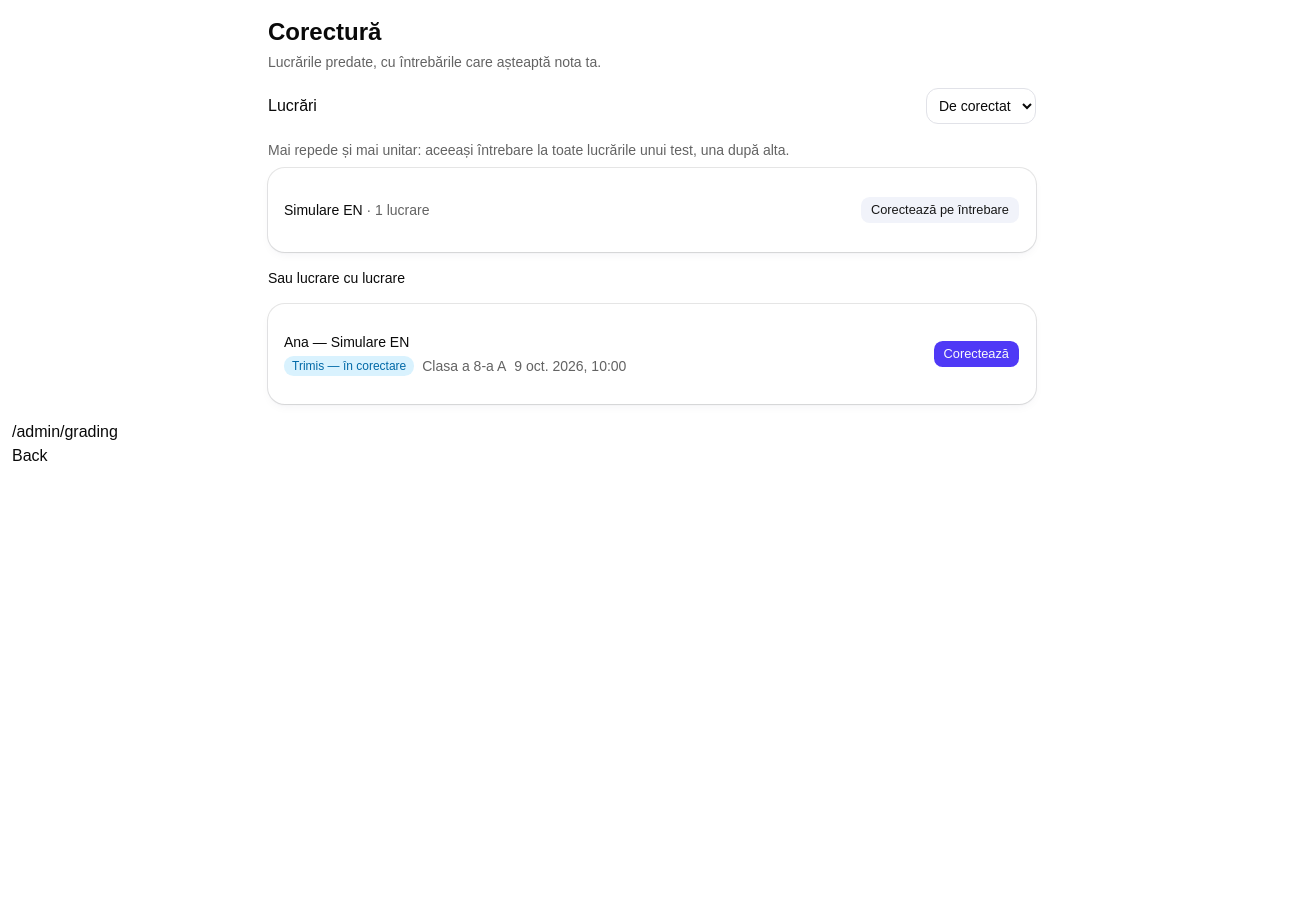
it: AdminGradingPage › keeps a failed save on screen and retries it
The width and height of the screenshot is (1292, 900).
Click the button with test id "attempt-open" at point(976, 354), box [932,340,1020,368]
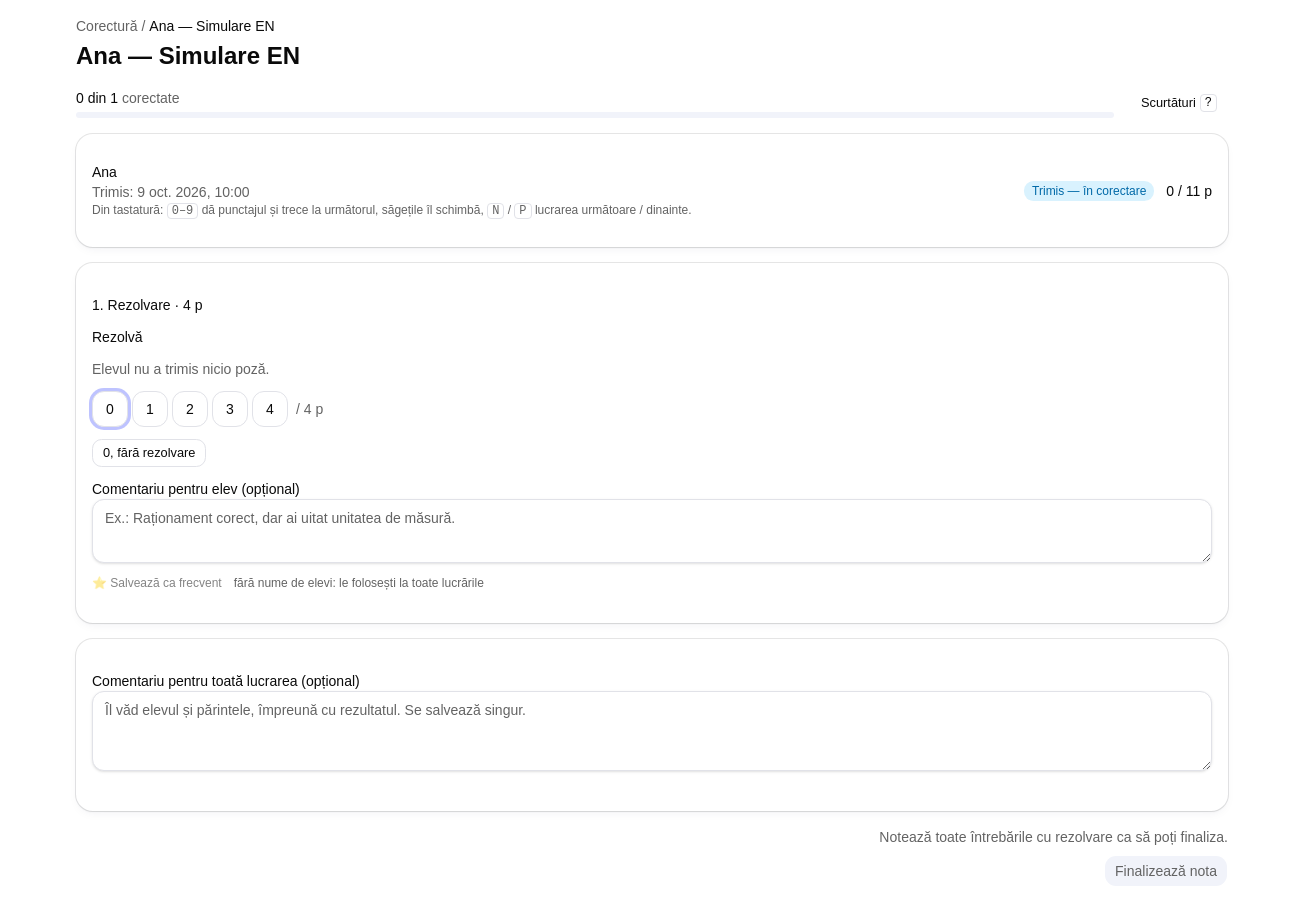
Check: the text "Rezolvă" is shown, box [92,329,143,345]
Click the radio button labelled "2" at point(190, 409), box [172,391,208,427]
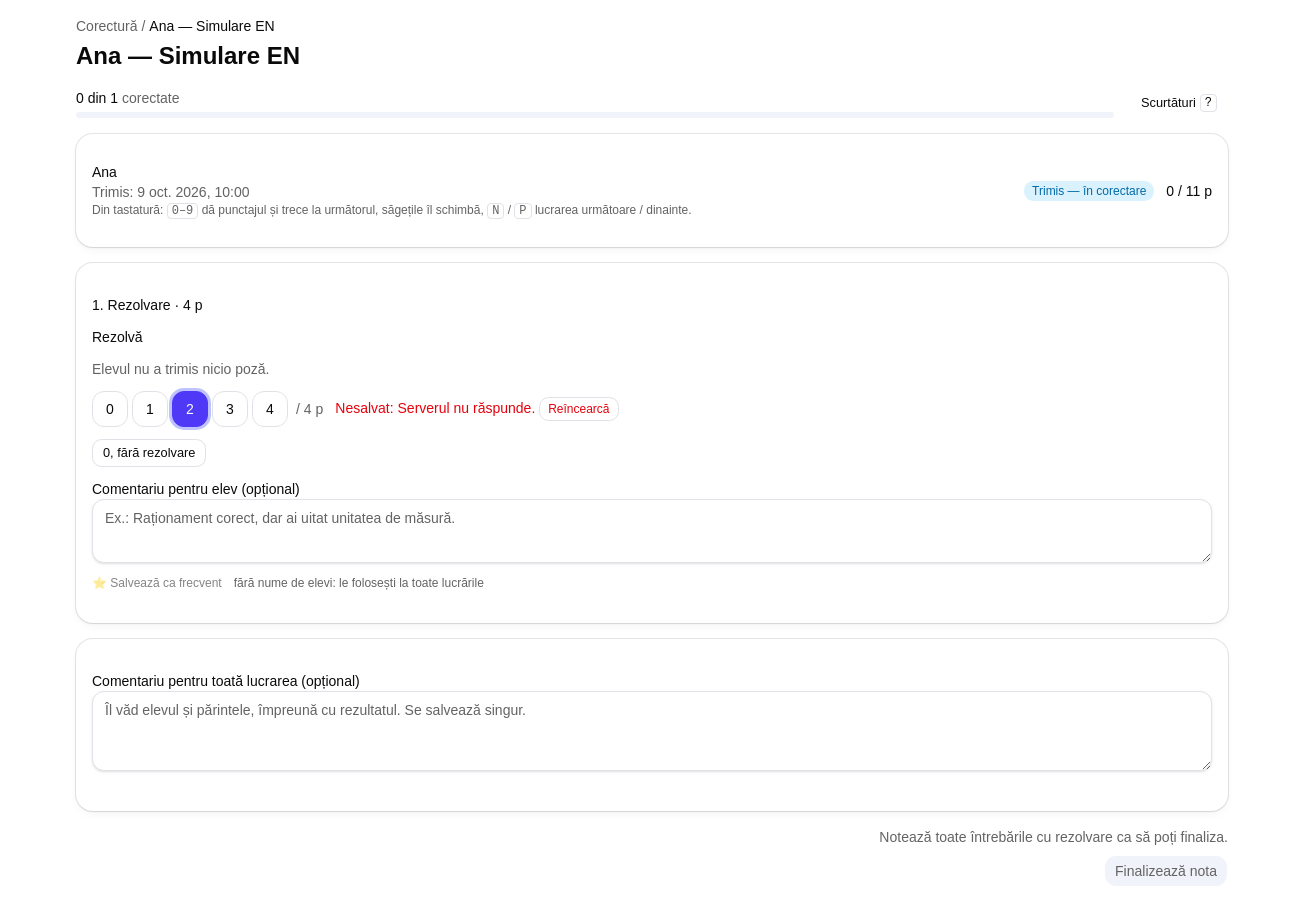
Check: the button with test id "grade-finalize" is disabled, box [1104,855,1228,887]
Check: the text "Nesalvat: Serverul nu răspunde. Reîncearcă" is shown, box [335,400,619,416]
Click the button "Reîncearcă" at point(579, 409), box [539,397,619,421]
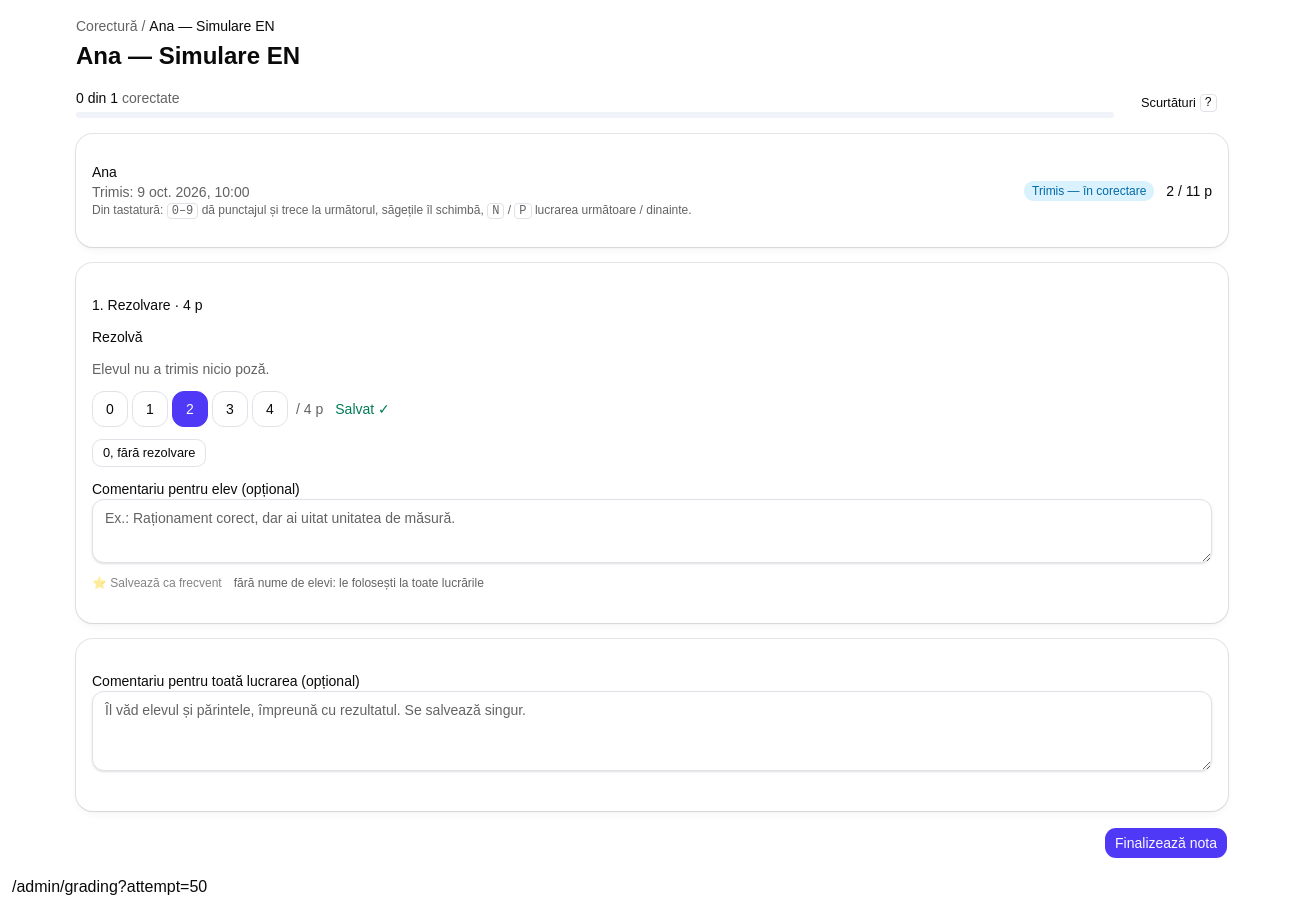
Check: the text "Salvat ✓" is shown, box [335,401,390,417]
Check: the button with test id "grade-finalize" is enabled, box [1104,827,1228,859]
